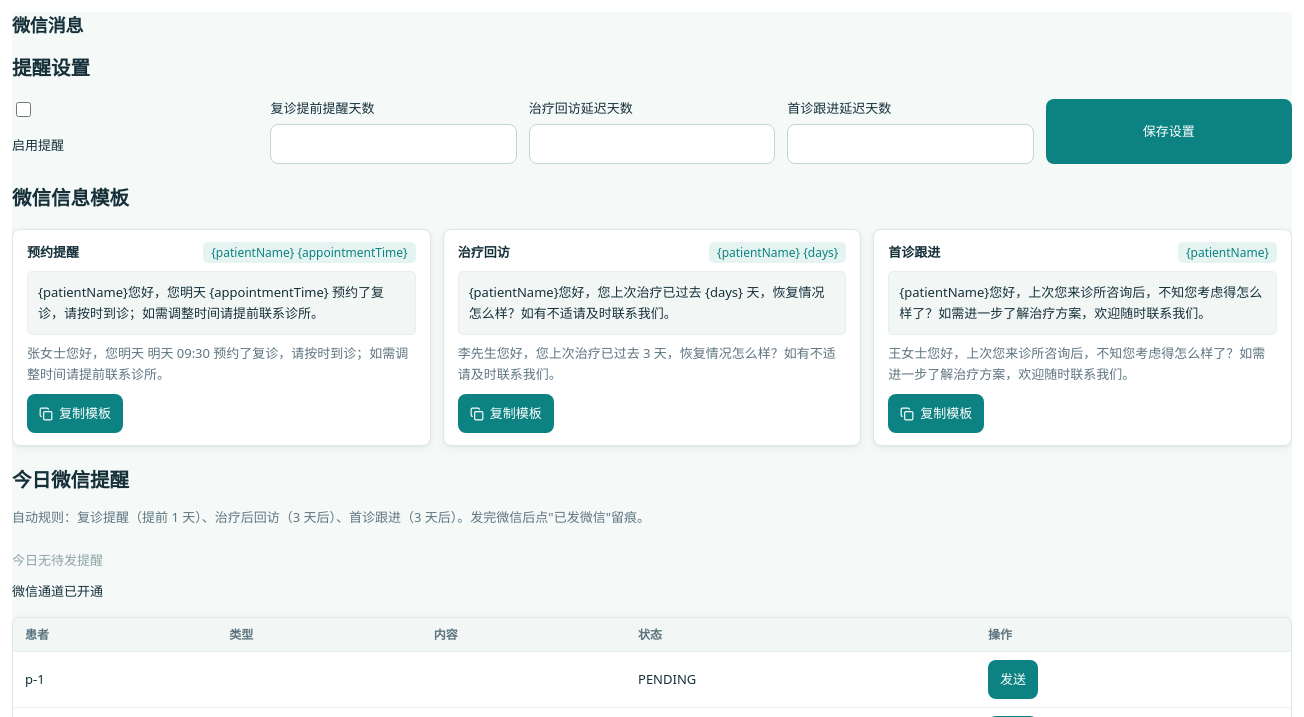
Test: CommunicationWorkflowPage › renders messages and sends them
expect the text "微信通道已开通" is shown: met, box [12,582,103,601]
Click the button "发送" in the row of "p-1". click: (1013, 680)
box: [988,660,1038,699]
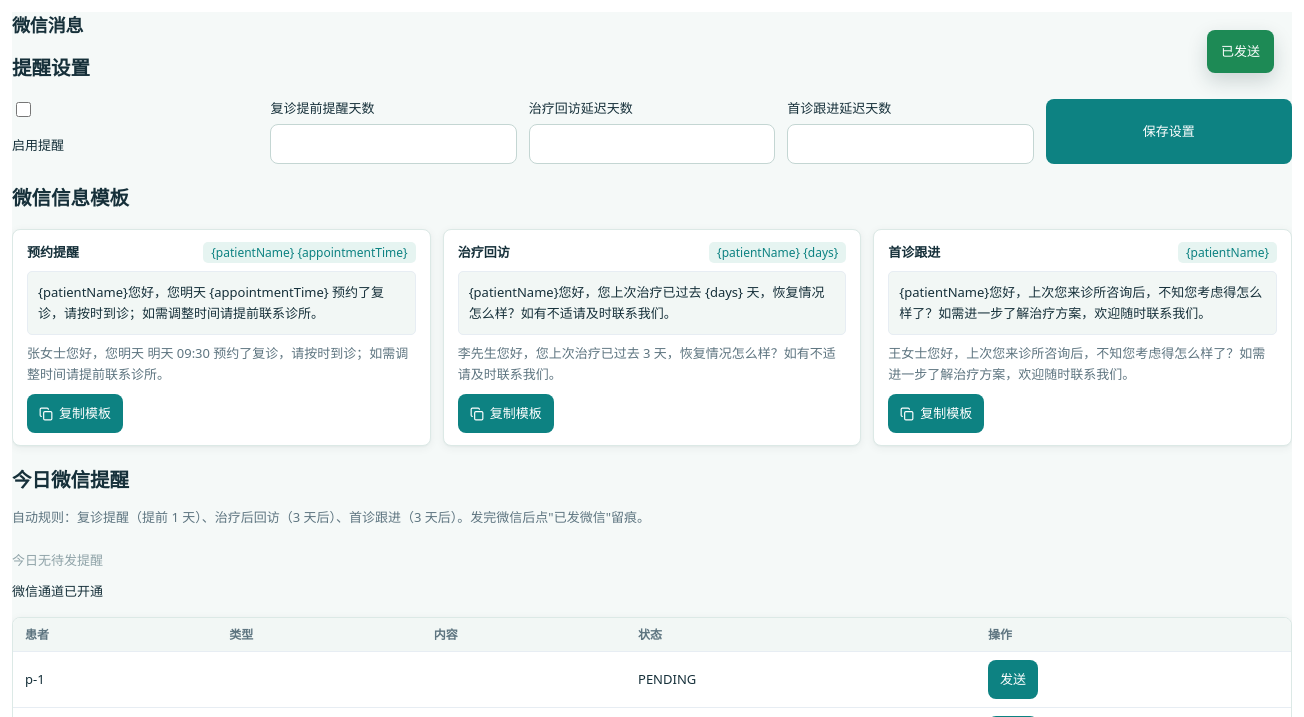
expect the text "已发送" is shown: met, box [1207,30,1274,73]
